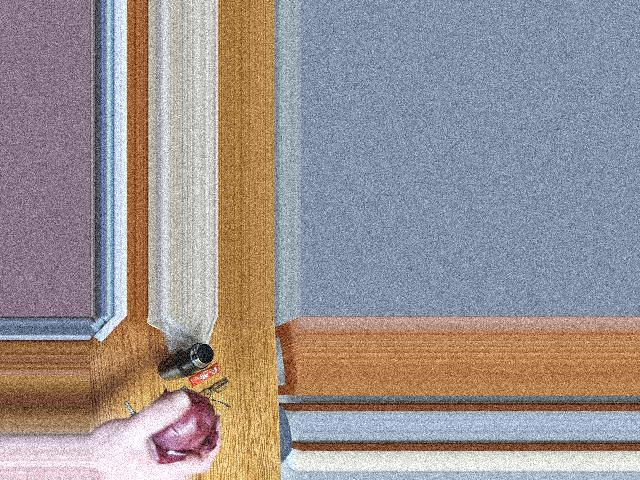onion: (146, 399, 212, 456)
